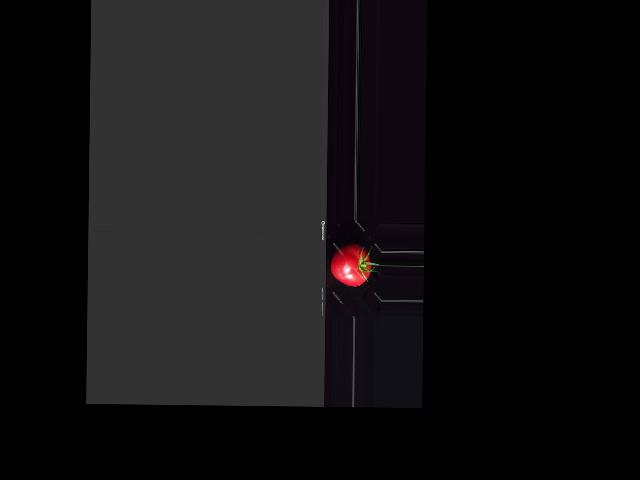tomato: (330, 244, 371, 287)
